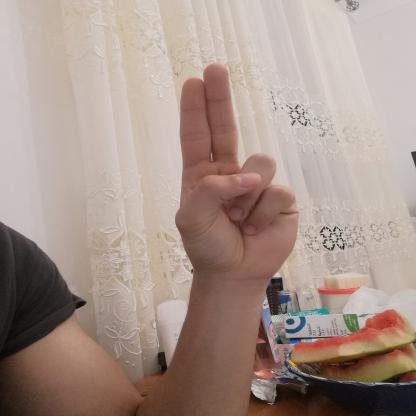TA: (161, 55, 310, 287)
